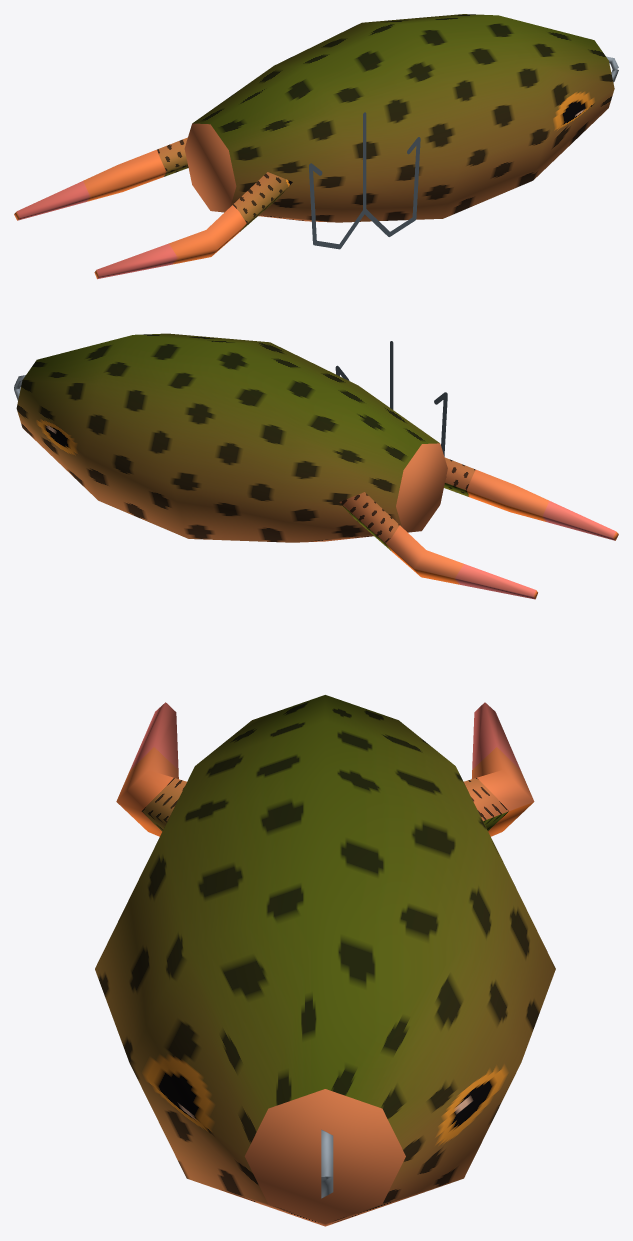
The model's file is floating_lure.glb.
3 views of the same model, one above another, from view 1: azimuth 30°, elevation 25°; view 2: azimuth 150°, elevation 25°; view 3: azimuth 270°, elevation 25° (orthographic). The views are drawn at different scales.
Parts seen in each view (by area): view 1: floating_lure__frog_body_MESH, floating_lure__Rubber_skirt_MESH, floating_lure__Rubber_skirt_MESH.001, floating_lure__Frog_double_hook_ALPHA; view 2: floating_lure__frog_body_MESH, floating_lure__Rubber_skirt_MESH.001, floating_lure__Rubber_skirt_MESH, floating_lure__Frog_double_hook_ALPHA; view 3: floating_lure__frog_body_MESH, floating_lure__Rubber_skirt_MESH.001, floating_lure__Rubber_skirt_MESH, floating_lure__Attachment_eye_MESH.009.
Part boxes in pixels (left/top/right/bottom): floating_lure__frog_body_MESH: left=184, top=14, right=614, bottom=222; floating_lure__Rubber_skirt_MESH: left=94, top=172, right=292, bottom=279; floating_lure__Rubber_skirt_MESH.001: left=14, top=137, right=188, bottom=220; floating_lure__Frog_double_hook_ALPHA: left=309, top=112, right=420, bottom=249; floating_lure__frog_body_MESH: left=16, top=333, right=447, bottom=542; floating_lure__Rubber_skirt_MESH.001: left=339, top=492, right=537, bottom=599; floating_lure__Rubber_skirt_MESH: left=444, top=457, right=618, bottom=540; floating_lure__Frog_double_hook_ALPHA: left=335, top=341, right=447, bottom=456; floating_lure__frog_body_MESH: left=95, top=695, right=555, bottom=1226; floating_lure__Rubber_skirt_MESH.001: left=464, top=702, right=534, bottom=836; floating_lure__Rubber_skirt_MESH: left=116, top=702, right=186, bottom=836; floating_lure__Attachment_eye_MESH.009: left=321, top=1129, right=333, bottom=1198.
Size of the model in its own units: 0.0731 by 0.024 by 0.027.
Materials: 3 (2 with a texture image).
